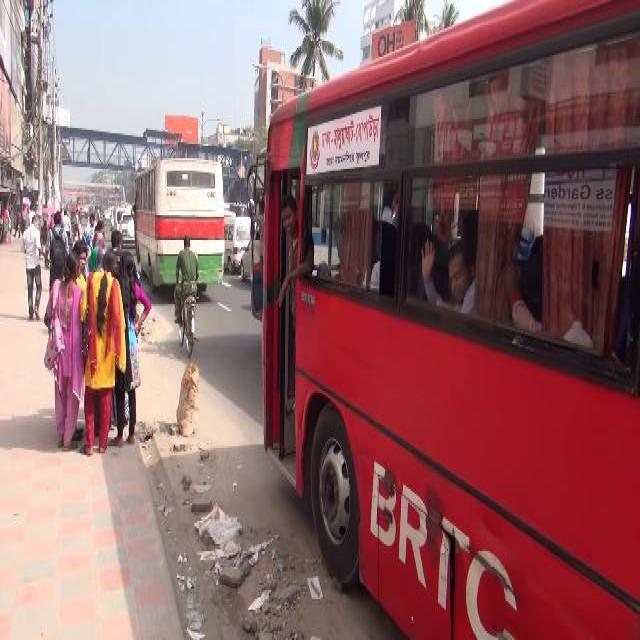19: (225, 212, 249, 276)
5: (240, 218, 262, 290), (119, 210, 135, 252), (112, 205, 130, 239)
Motorcycle: (173, 292, 200, 362)
Truck: (261, 0, 640, 635), (132, 156, 225, 292)
